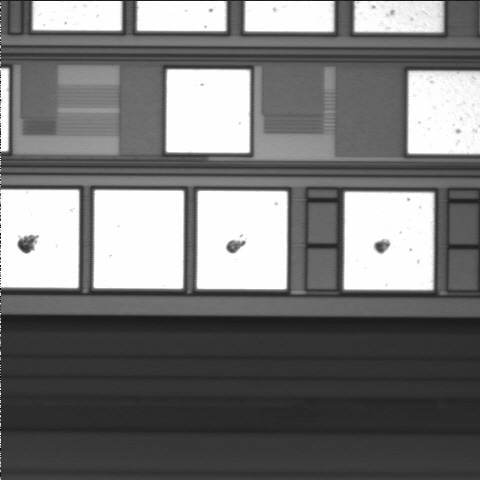pad: (94, 190, 184, 289), (197, 191, 287, 289), (344, 192, 434, 290), (166, 69, 250, 153)
